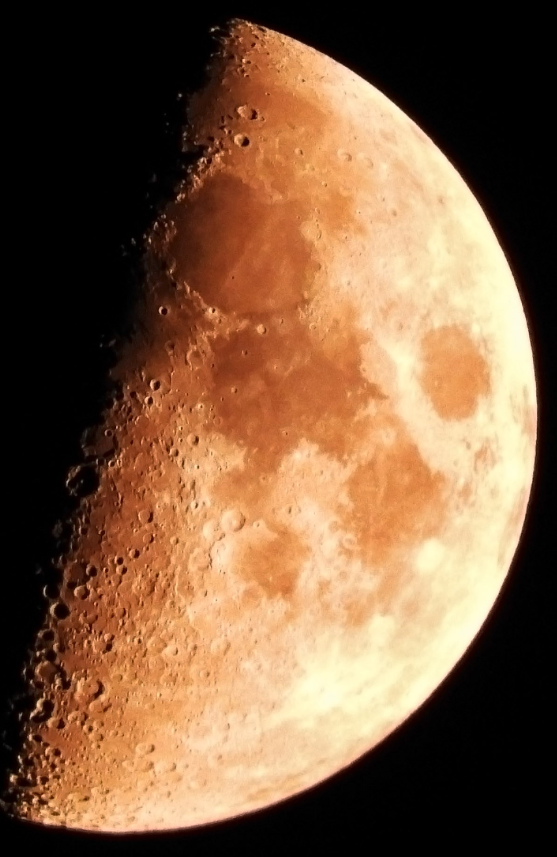crater: (158, 156, 332, 343), (410, 292, 507, 438), (404, 530, 449, 578), (58, 462, 112, 501), (215, 499, 249, 537), (79, 670, 109, 712), (121, 732, 170, 755), (227, 96, 263, 127), (356, 141, 384, 178), (206, 634, 238, 663), (129, 503, 162, 528), (331, 137, 357, 168), (46, 599, 77, 622), (228, 127, 257, 151), (182, 427, 204, 455), (135, 531, 160, 550), (227, 380, 245, 401), (193, 396, 208, 416)
